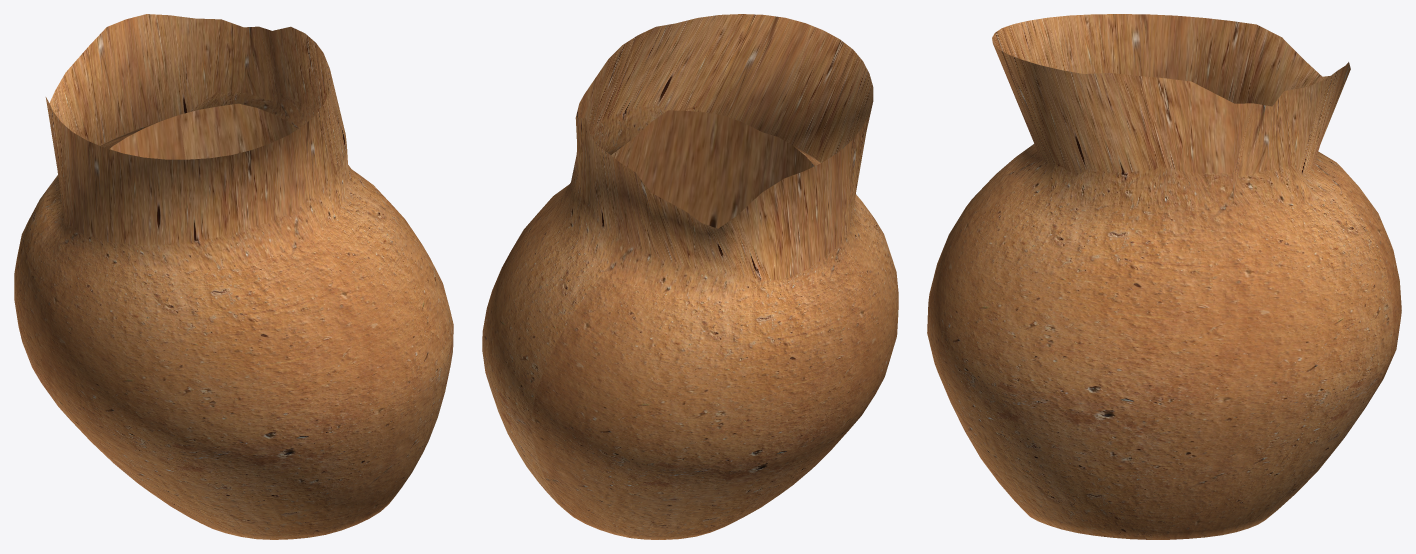
The model's file is goza_shkaw.glb.
3 views of the same model, side by side, from view 1: azimuth 30°, elevation 25°; view 2: azimuth 150°, elevation 25°; view 3: azimuth 270°, elevation 25° (orthographic).
Visible parts, largest first — view 1: uploads_files_2457244_Ancient+vase; view 2: uploads_files_2457244_Ancient+vase; view 3: uploads_files_2457244_Ancient+vase.
Boxes of the visible parts, bbox=[...] form: uploads_files_2457244_Ancient+vase: bbox=[14, 14, 453, 539]; uploads_files_2457244_Ancient+vase: bbox=[482, 14, 898, 539]; uploads_files_2457244_Ancient+vase: bbox=[927, 14, 1401, 539].
Size of the model in its own units: 0.5574 by 0.6779 by 0.6342.
1 material, 1 textured.
